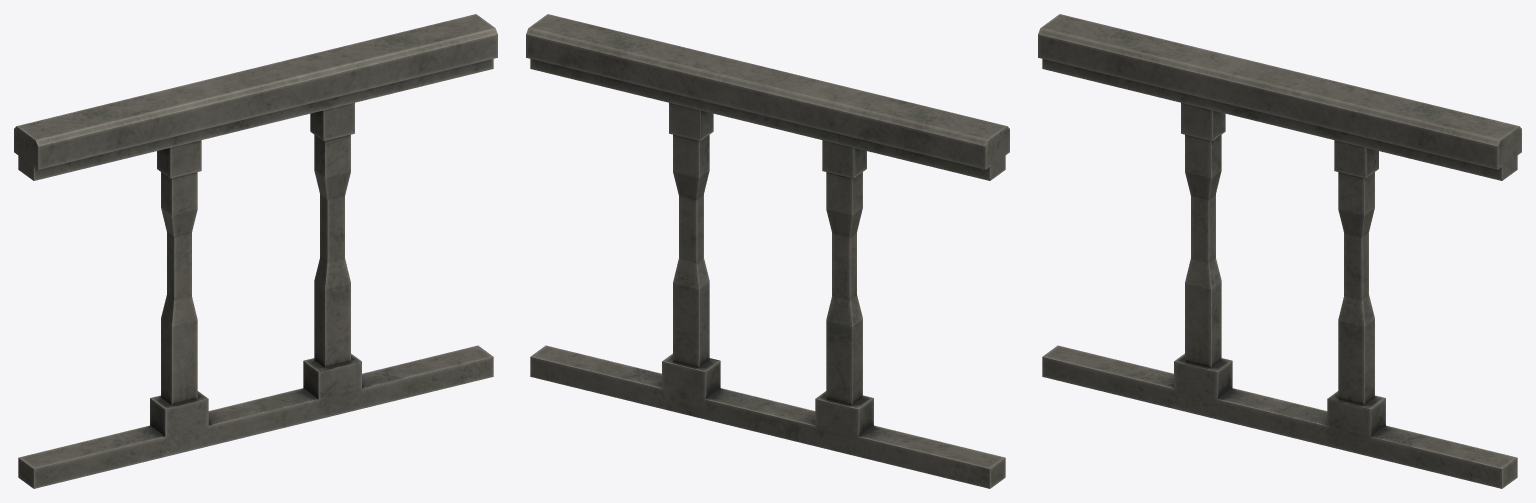
File: SM_Handrails1.fbx
3 renders of one model, left to right at view 1: azimuth 30°, elevation 25°; view 2: azimuth 150°, elevation 25°; view 3: azimuth 330°, elevation 25°, orthographic.
Parts seen in each view (by area): view 1: SM_Handrails1; view 2: SM_Handrails1; view 3: SM_Handrails1.
Boxes of the visible parts, x1,y1,x2,y2 form: SM_Handrails1: (14, 14, 497, 488); SM_Handrails1: (526, 14, 1009, 488); SM_Handrails1: (1038, 14, 1521, 488).
Size of the model in its own units: 183 by 16.64 by 133.
